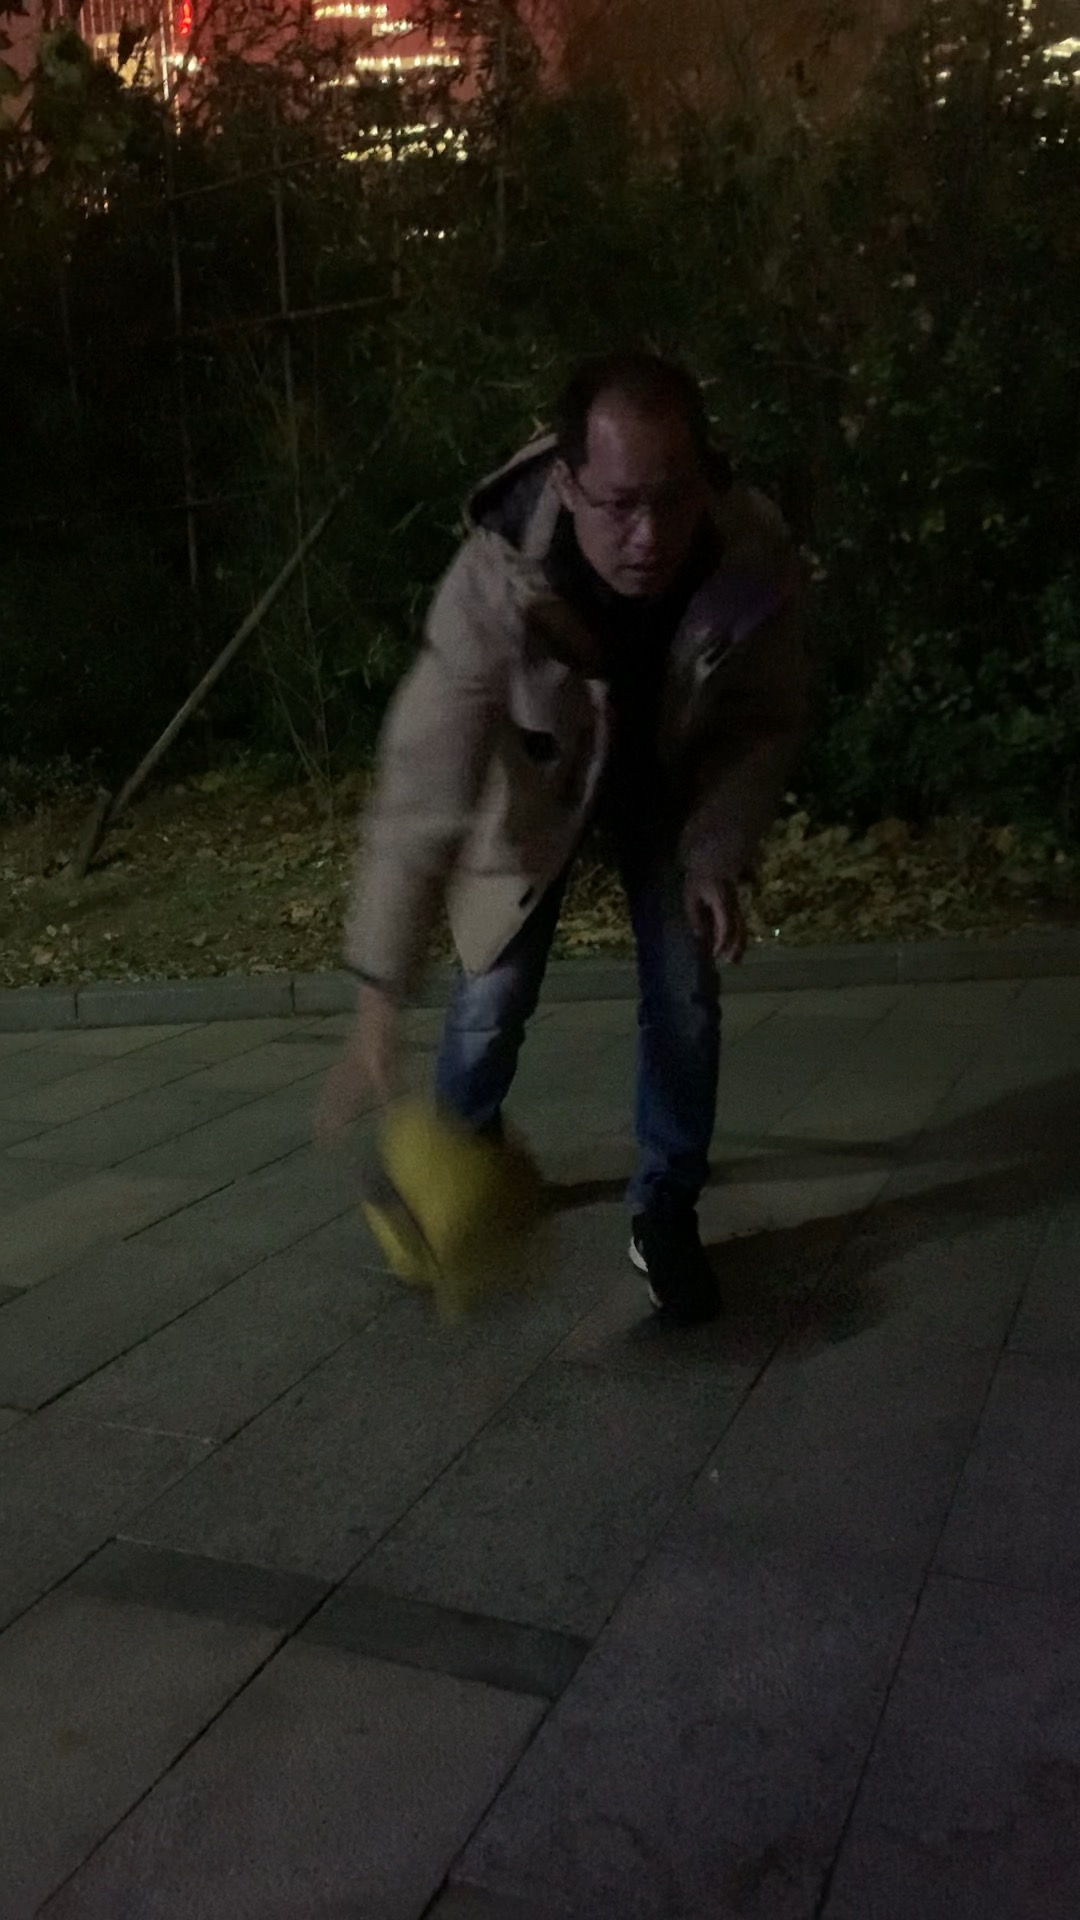ball: (349, 1085, 553, 1282)
